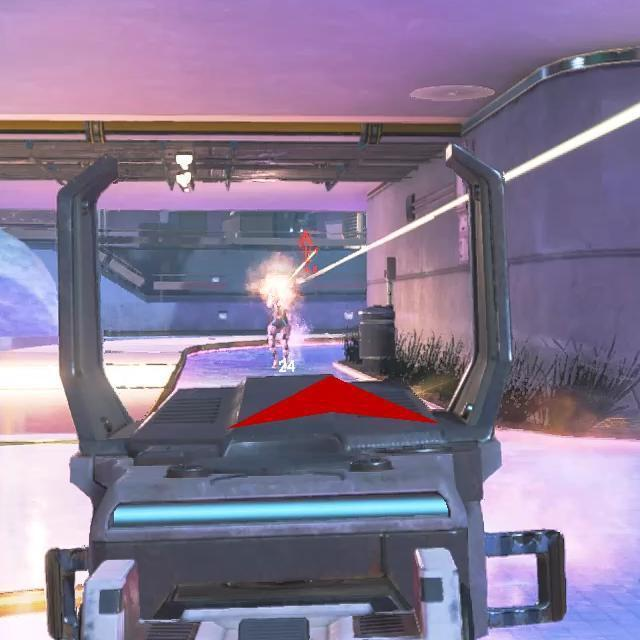avatar: (259, 257, 298, 371)
object: (251, 257, 301, 311)
